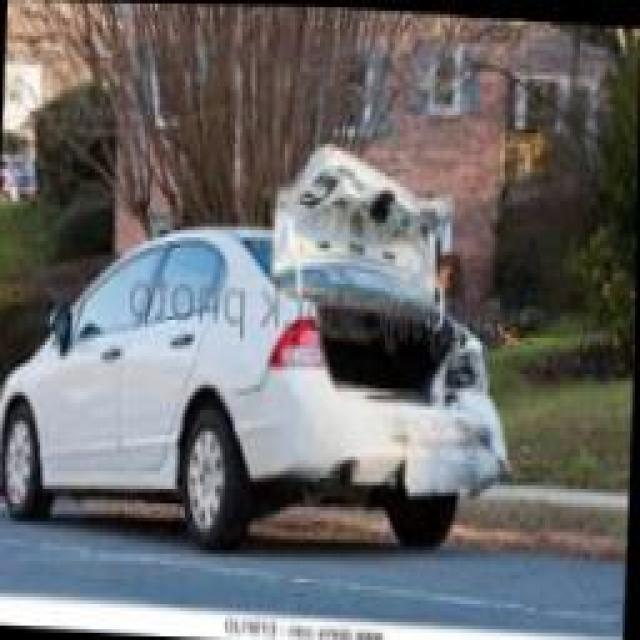replaceable: (422, 409, 523, 493), (444, 320, 491, 399), (386, 430, 414, 518)
